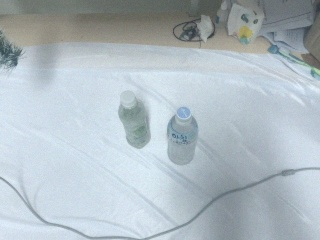bottle: (117, 90, 152, 149), (166, 107, 199, 166)
box: (303, 1, 320, 76)
